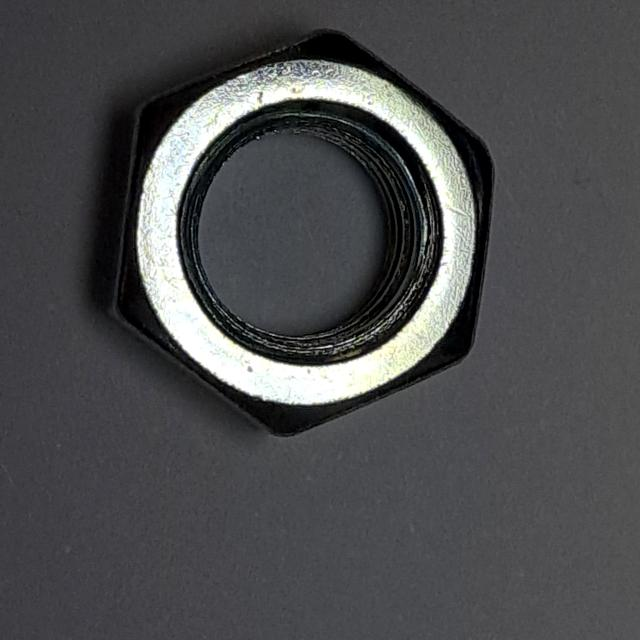Excellent: (93, 16, 505, 455)
